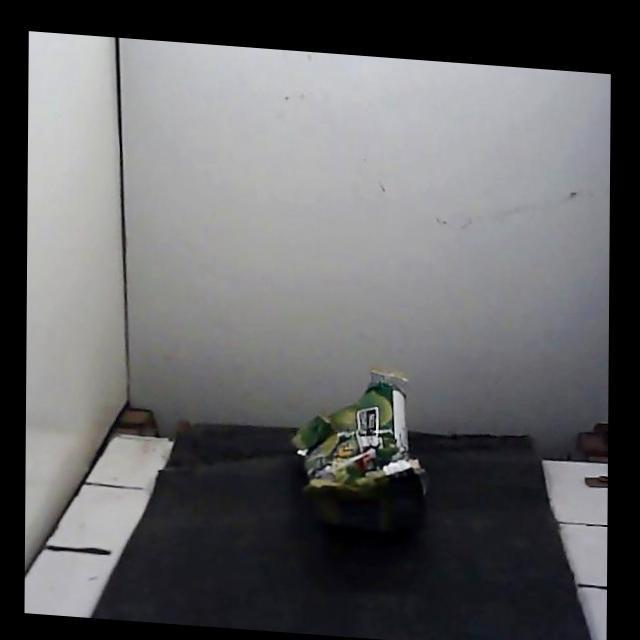plastico: (291, 370, 425, 530)
